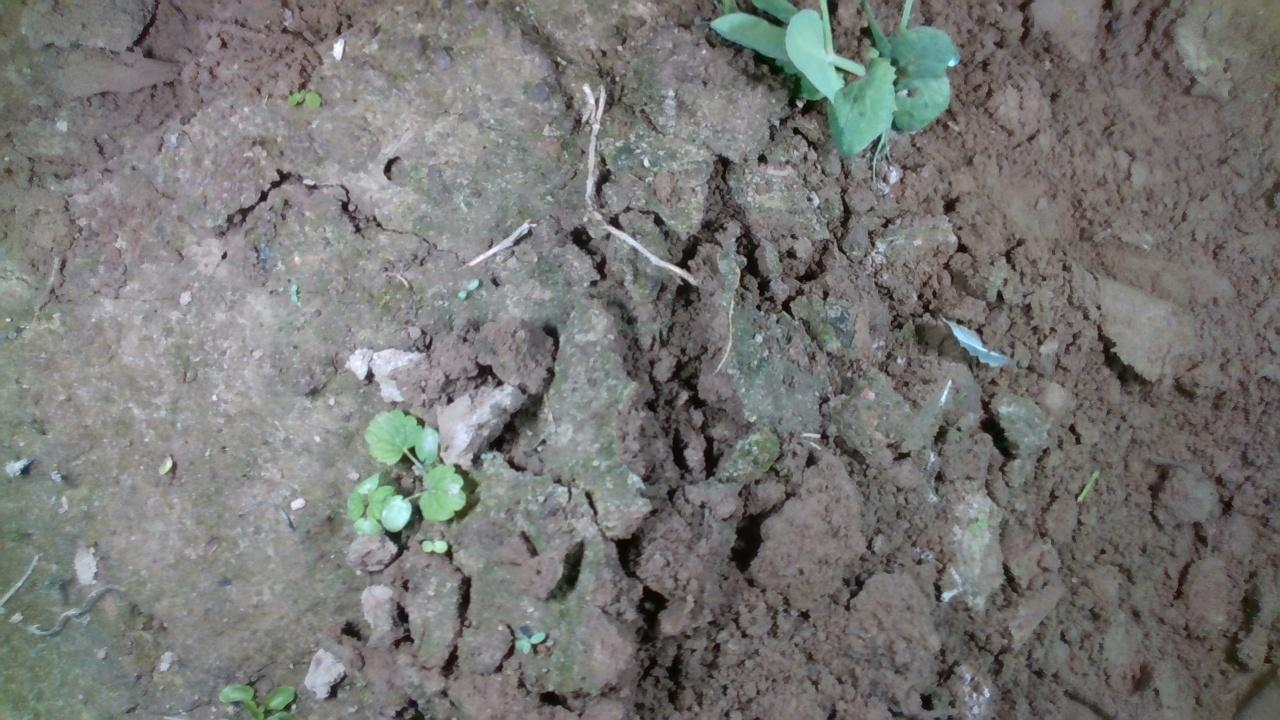weed: (281, 83, 326, 109), (413, 532, 450, 557), (448, 276, 481, 297)
